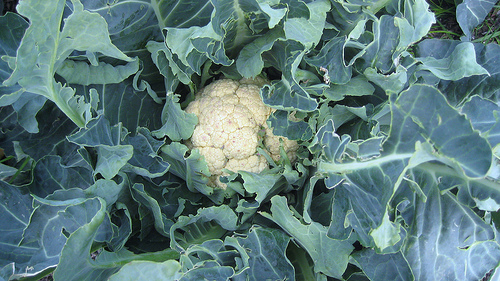cauliflower: (179, 77, 302, 196)
